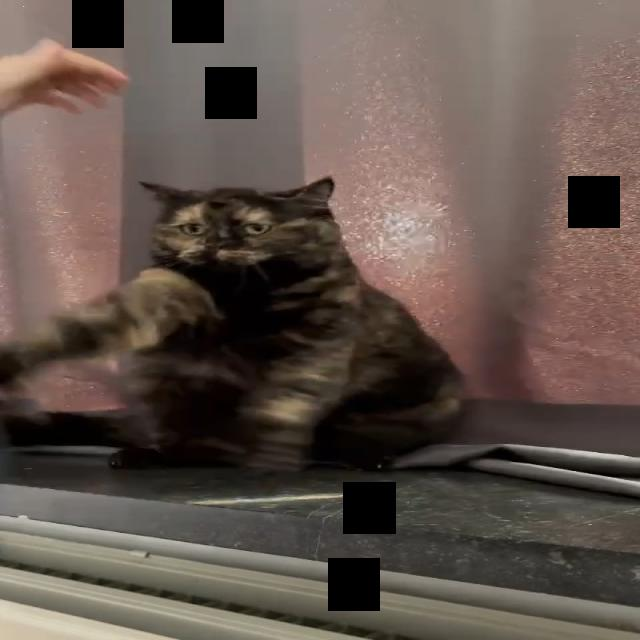authorized: (113, 175, 467, 473)
